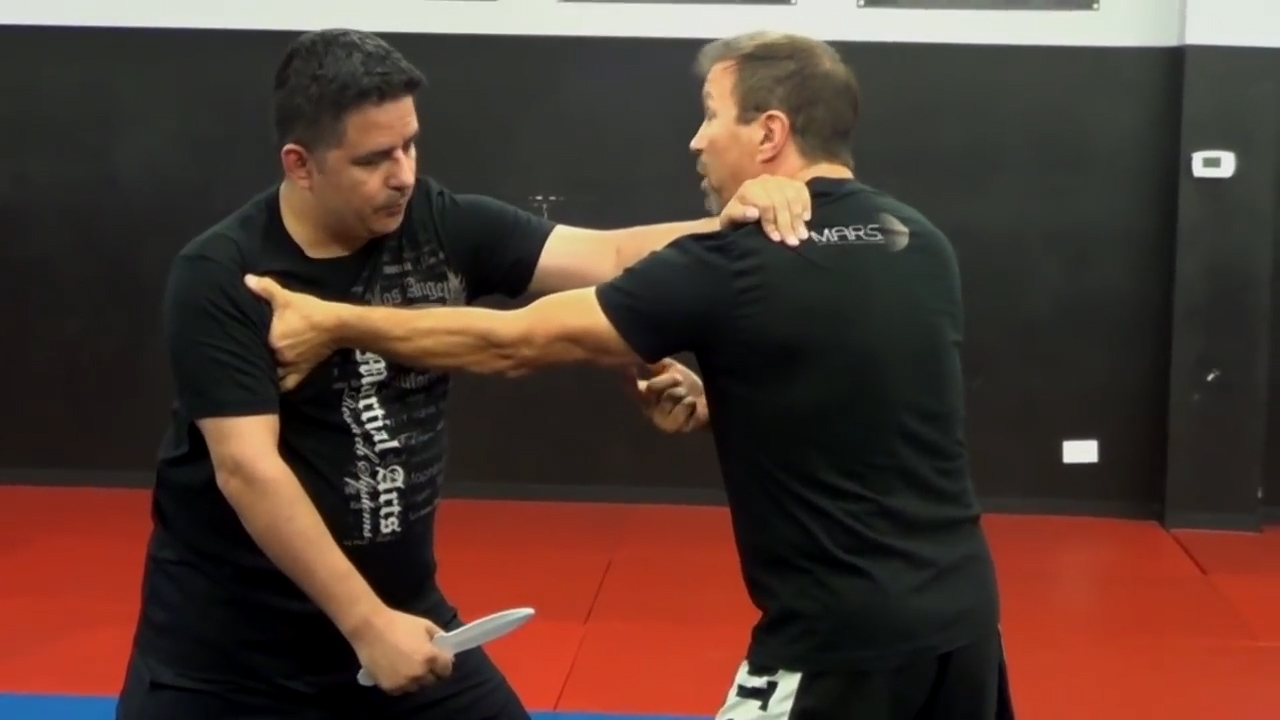knife: (354, 598, 541, 693)
